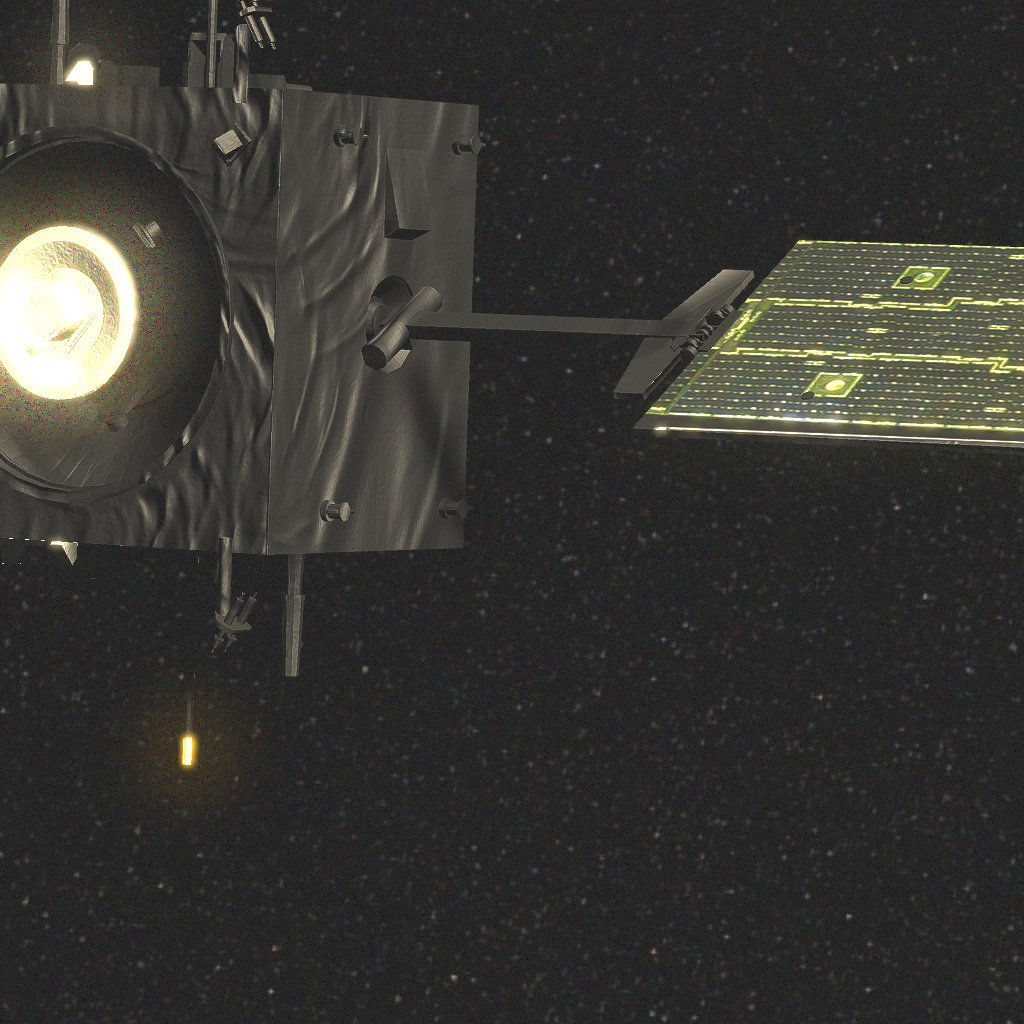smart_1: (0, 0, 1024, 765)
